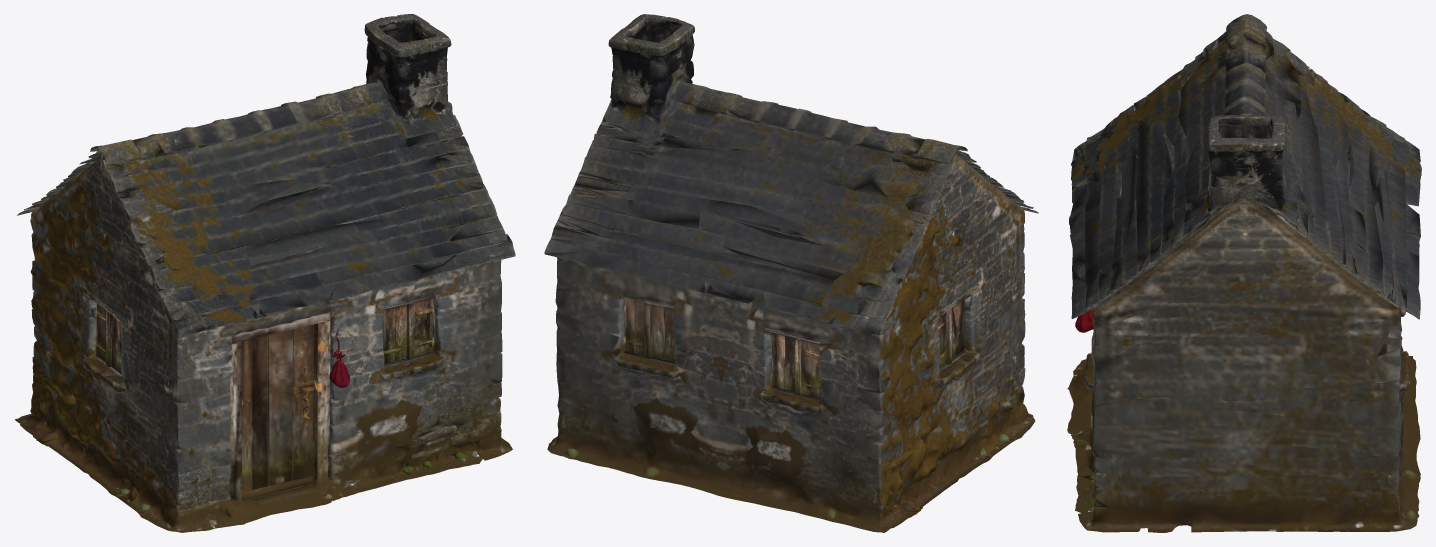
File: vil-house-b.fbx
3 renders of one model, left to right at view 1: azimuth 30°, elevation 25°; view 2: azimuth 150°, elevation 25°; view 3: azimuth 270°, elevation 25°, orthographic. The views are drawn at different scales.
Visible parts, largest first — view 1: Mesh_0; view 2: Mesh_0; view 3: Mesh_0.
Part boxes in pixels (x1=…): Mesh_0: x1=15, y1=14, x2=515, y2=532; Mesh_0: x1=544, y1=14, x2=1038, y2=532; Mesh_0: x1=1067, y1=14, x2=1421, y2=532.
Size of the model in its own units: 94.48 by 95.26 by 78.71.
1 material, 1 textured.
